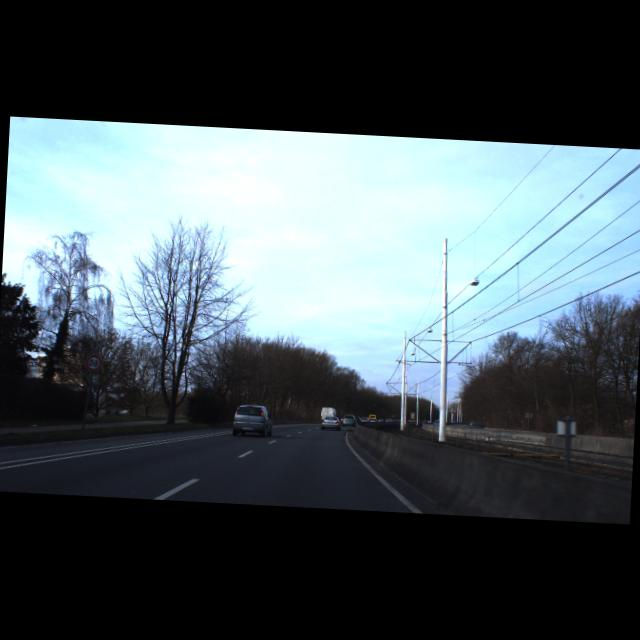prohibitory: (85, 354, 104, 372)
